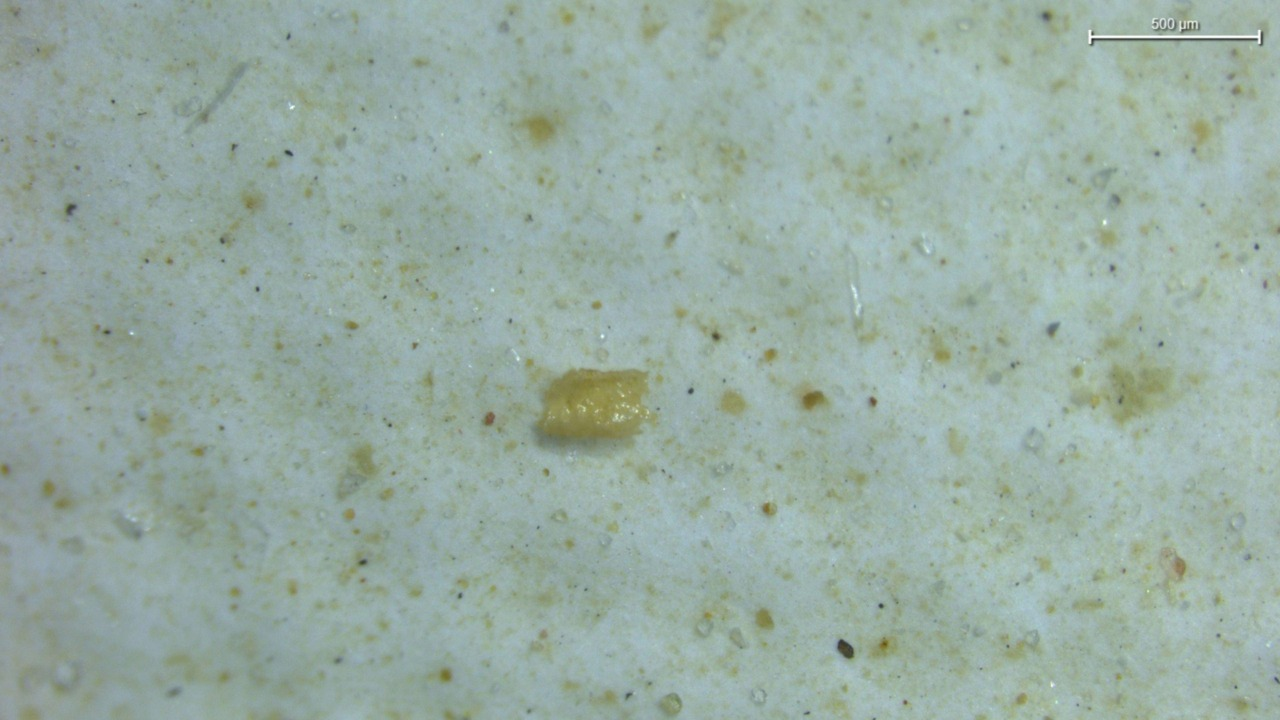microplastic_fragment: (538, 369, 655, 438)
